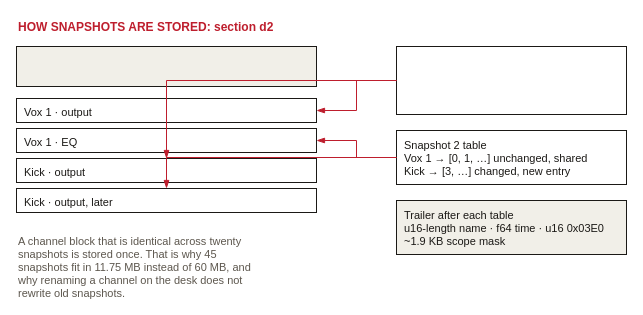
Image size: 643x315. Some labels were removed from this diagram. Each missing label, with the centre of its shape:
"Component pool 11,780 records in the sample; one layout; each stored once" belongs at [166,66].
"Snapshot 1 table object → pool indices Vox 1 → [0, 1, …] Kick → [2, …]" belongs at [511,80].
